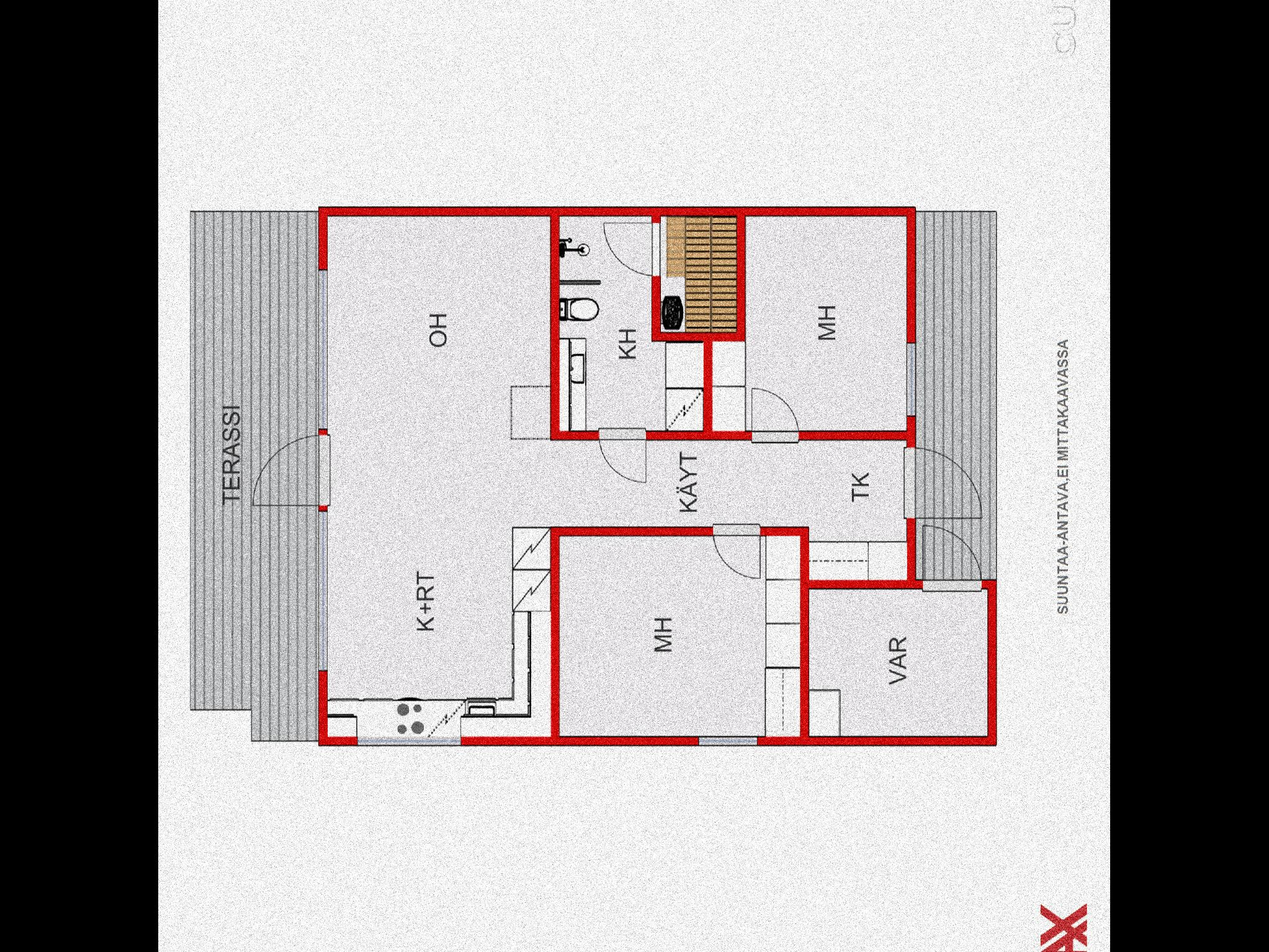door: (245, 434, 334, 512), (904, 444, 980, 517), (922, 523, 984, 593), (597, 420, 651, 484), (715, 519, 766, 582), (600, 218, 658, 273), (750, 388, 801, 443)
window: (312, 272, 333, 434), (314, 512, 327, 671), (358, 733, 459, 748), (700, 732, 770, 748), (906, 347, 917, 419)
zone: (327, 210, 903, 735), (190, 213, 312, 740), (556, 538, 800, 738), (556, 219, 742, 433), (912, 209, 1001, 579), (751, 219, 901, 429), (808, 590, 988, 737)
